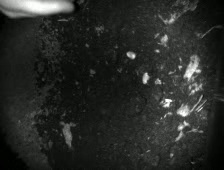corn: (139, 70, 151, 84), (123, 49, 138, 60)
